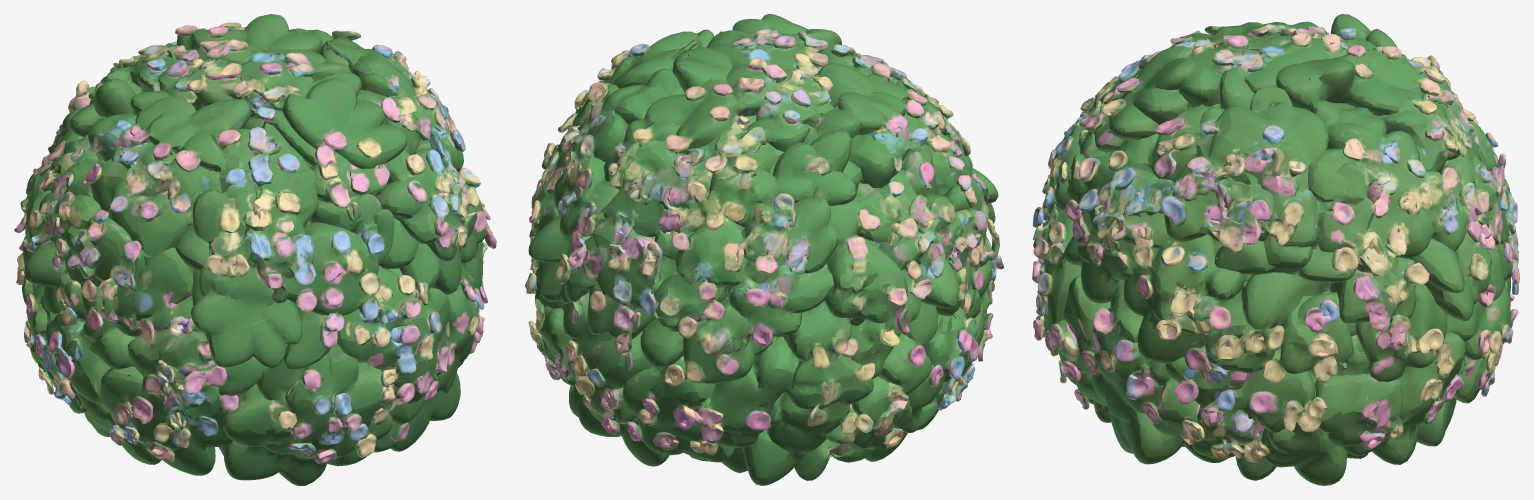
Rendered from nat_bush_flower.glb.
3 renders of one model, left to right at view 1: azimuth 30°, elevation 25°; view 2: azimuth 150°, elevation 25°; view 3: azimuth 270°, elevation 25°, orthographic. The views are drawn at different scales.
Visible parts, largest first — view 1: geometry_0; view 2: geometry_0; view 3: geometry_0.
Boxes of the visible parts, x1,y1,x2,y2 form: geometry_0: (14,14,496,485); geometry_0: (525,14,1003,485); geometry_0: (1032,14,1519,485).
Bounding box in the file's own units: 0.12 × 0.1019 × 0.1186.
Materials: 1 (1 with a texture image).
